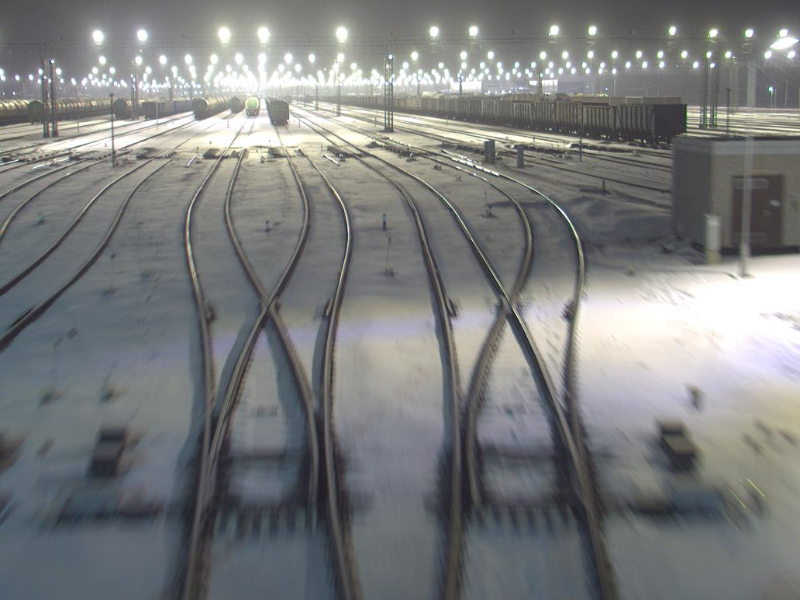left: (439, 293, 602, 516)
right: (197, 287, 338, 514)
